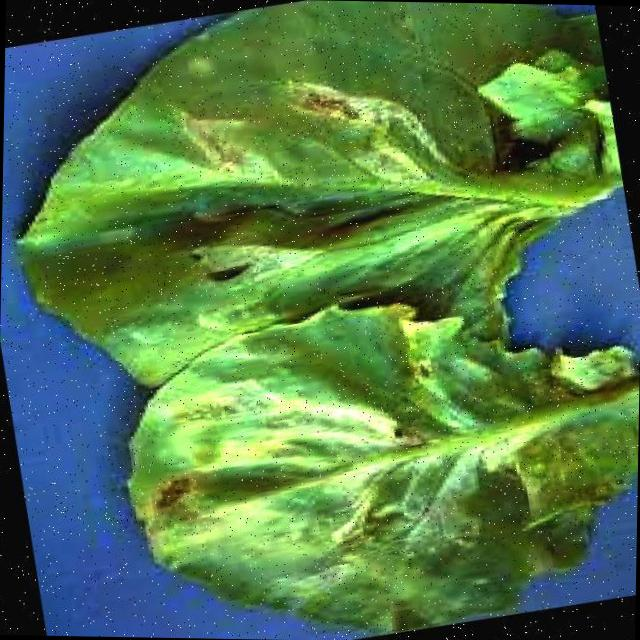Downy_mildew: (131, 46, 488, 326), (164, 335, 546, 592)
